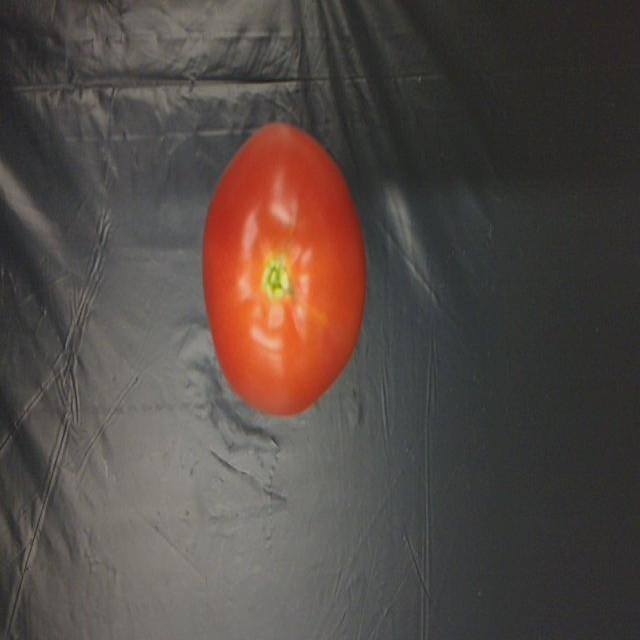sari: (191, 109, 380, 457)
